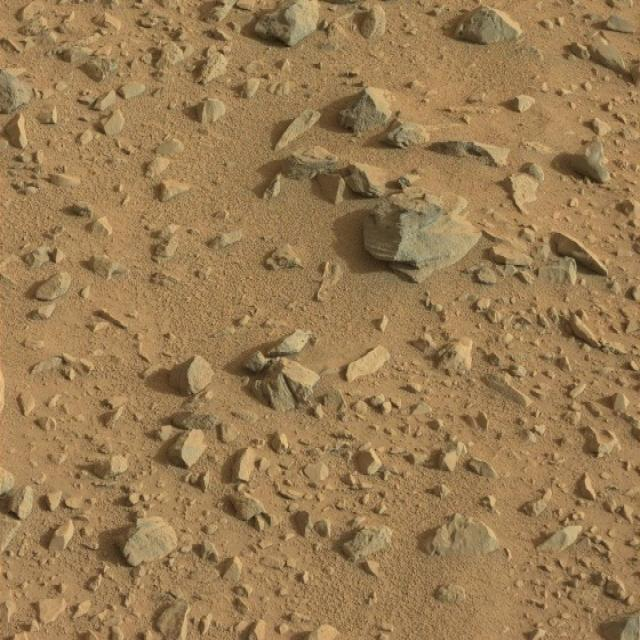rock: (354, 194, 488, 278)
